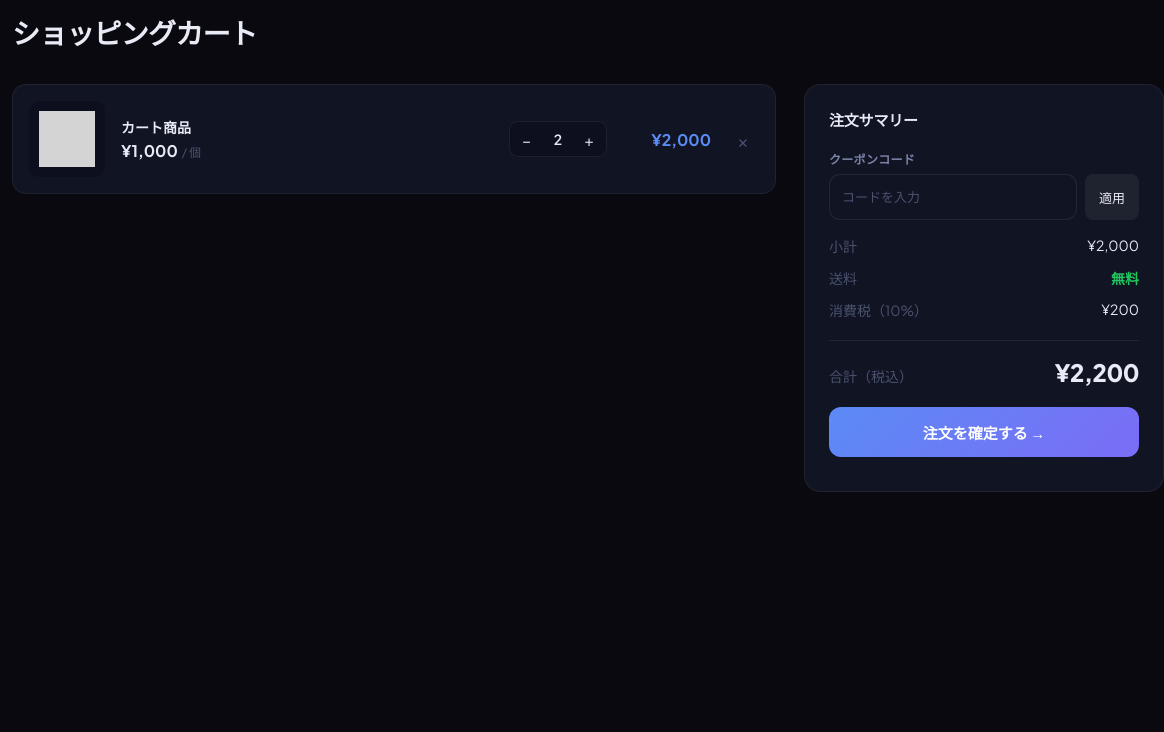
CartView › applies a valid coupon and shows the discount
Check: the text "カート商品" is shown, box [121,118,191,136]
Type "welcome10" into the field with placeholder "コードを入力".
click(953, 197); type("welcome10")  # box [829,174,1077,220]
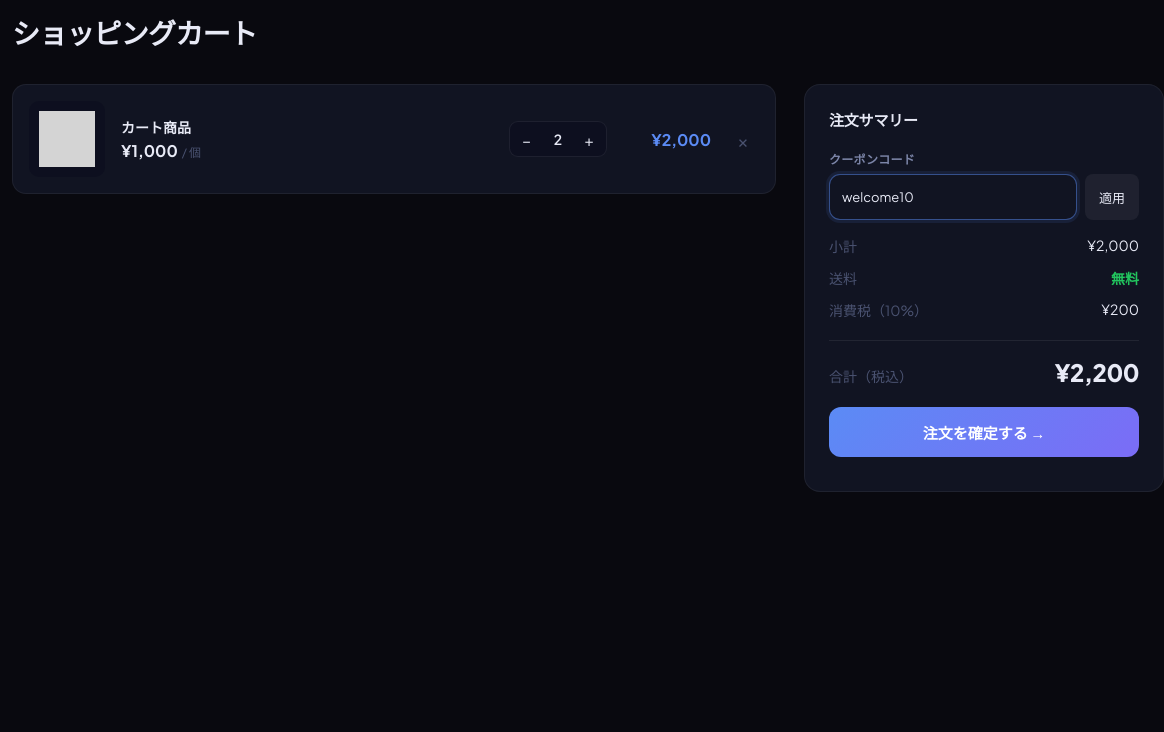
Click the button "適用".
click(1112, 197)  # box [1085,174,1139,220]
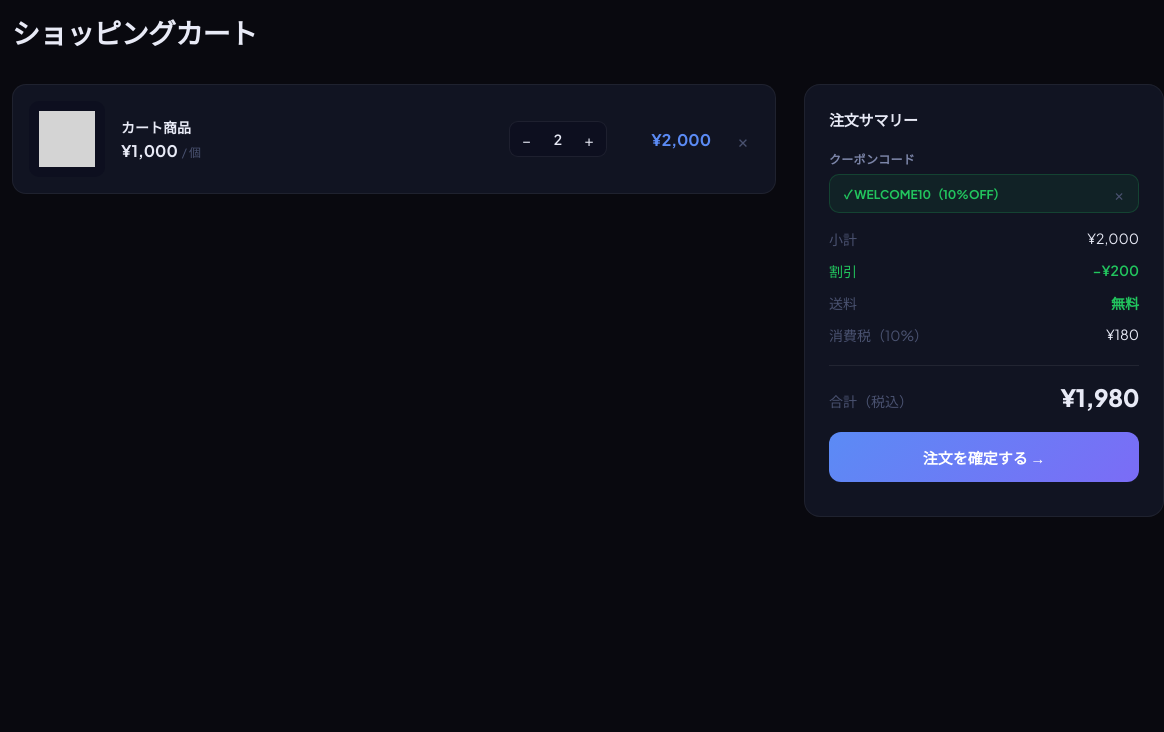
Check: the text "✓ WELCOME10（10%OFF）" is shown, box [844,187,1006,202]
Check: the text "割引" is shown, box [829,261,857,281]
